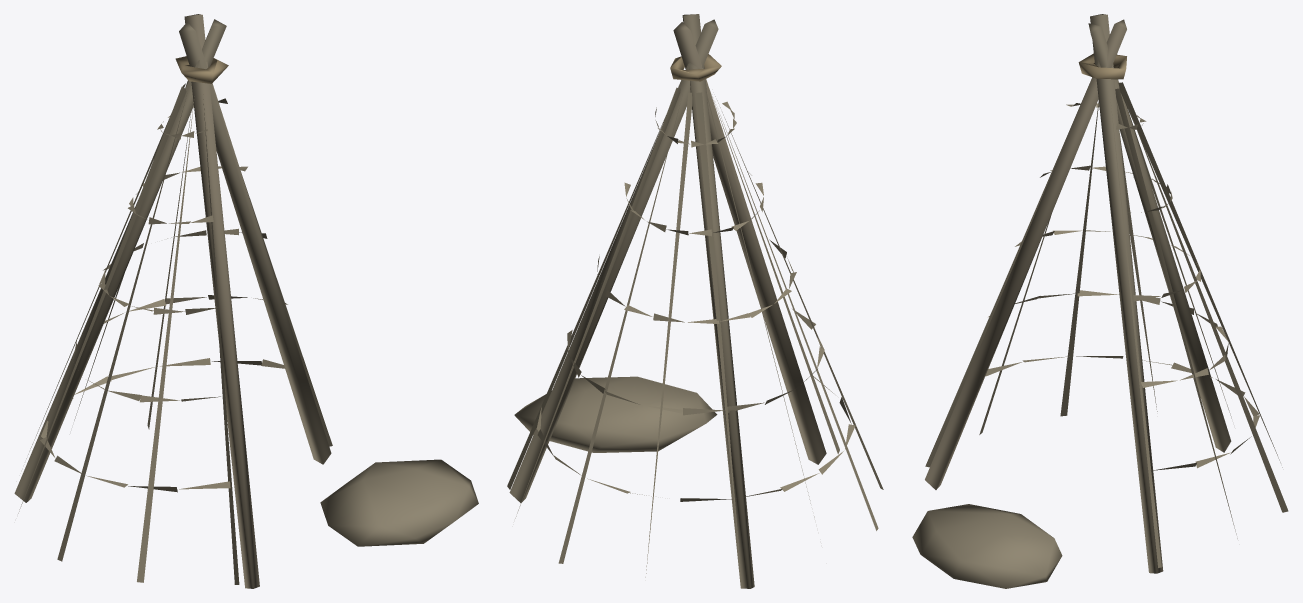
Rendered from drying_tripod_a_lod2.glb.
3 views of the same model, side by side, from view 1: azimuth 30°, elevation 25°; view 2: azimuth 150°, elevation 25°; view 3: azimuth 270°, elevation 25° (orthographic). The views are drawn at different scales.
Parts seen in each view (by area): view 1: Surface.001; view 2: Surface.001; view 3: Surface.001.
Part boxes in pixels (<box>): Surface.001: <box>14,14,478,588</box>; Surface.001: <box>507,14,883,588</box>; Surface.001: <box>912,14,1288,588</box>.
Bounding box in the file's own units: 2.19 × 2.72 × 1.92.
